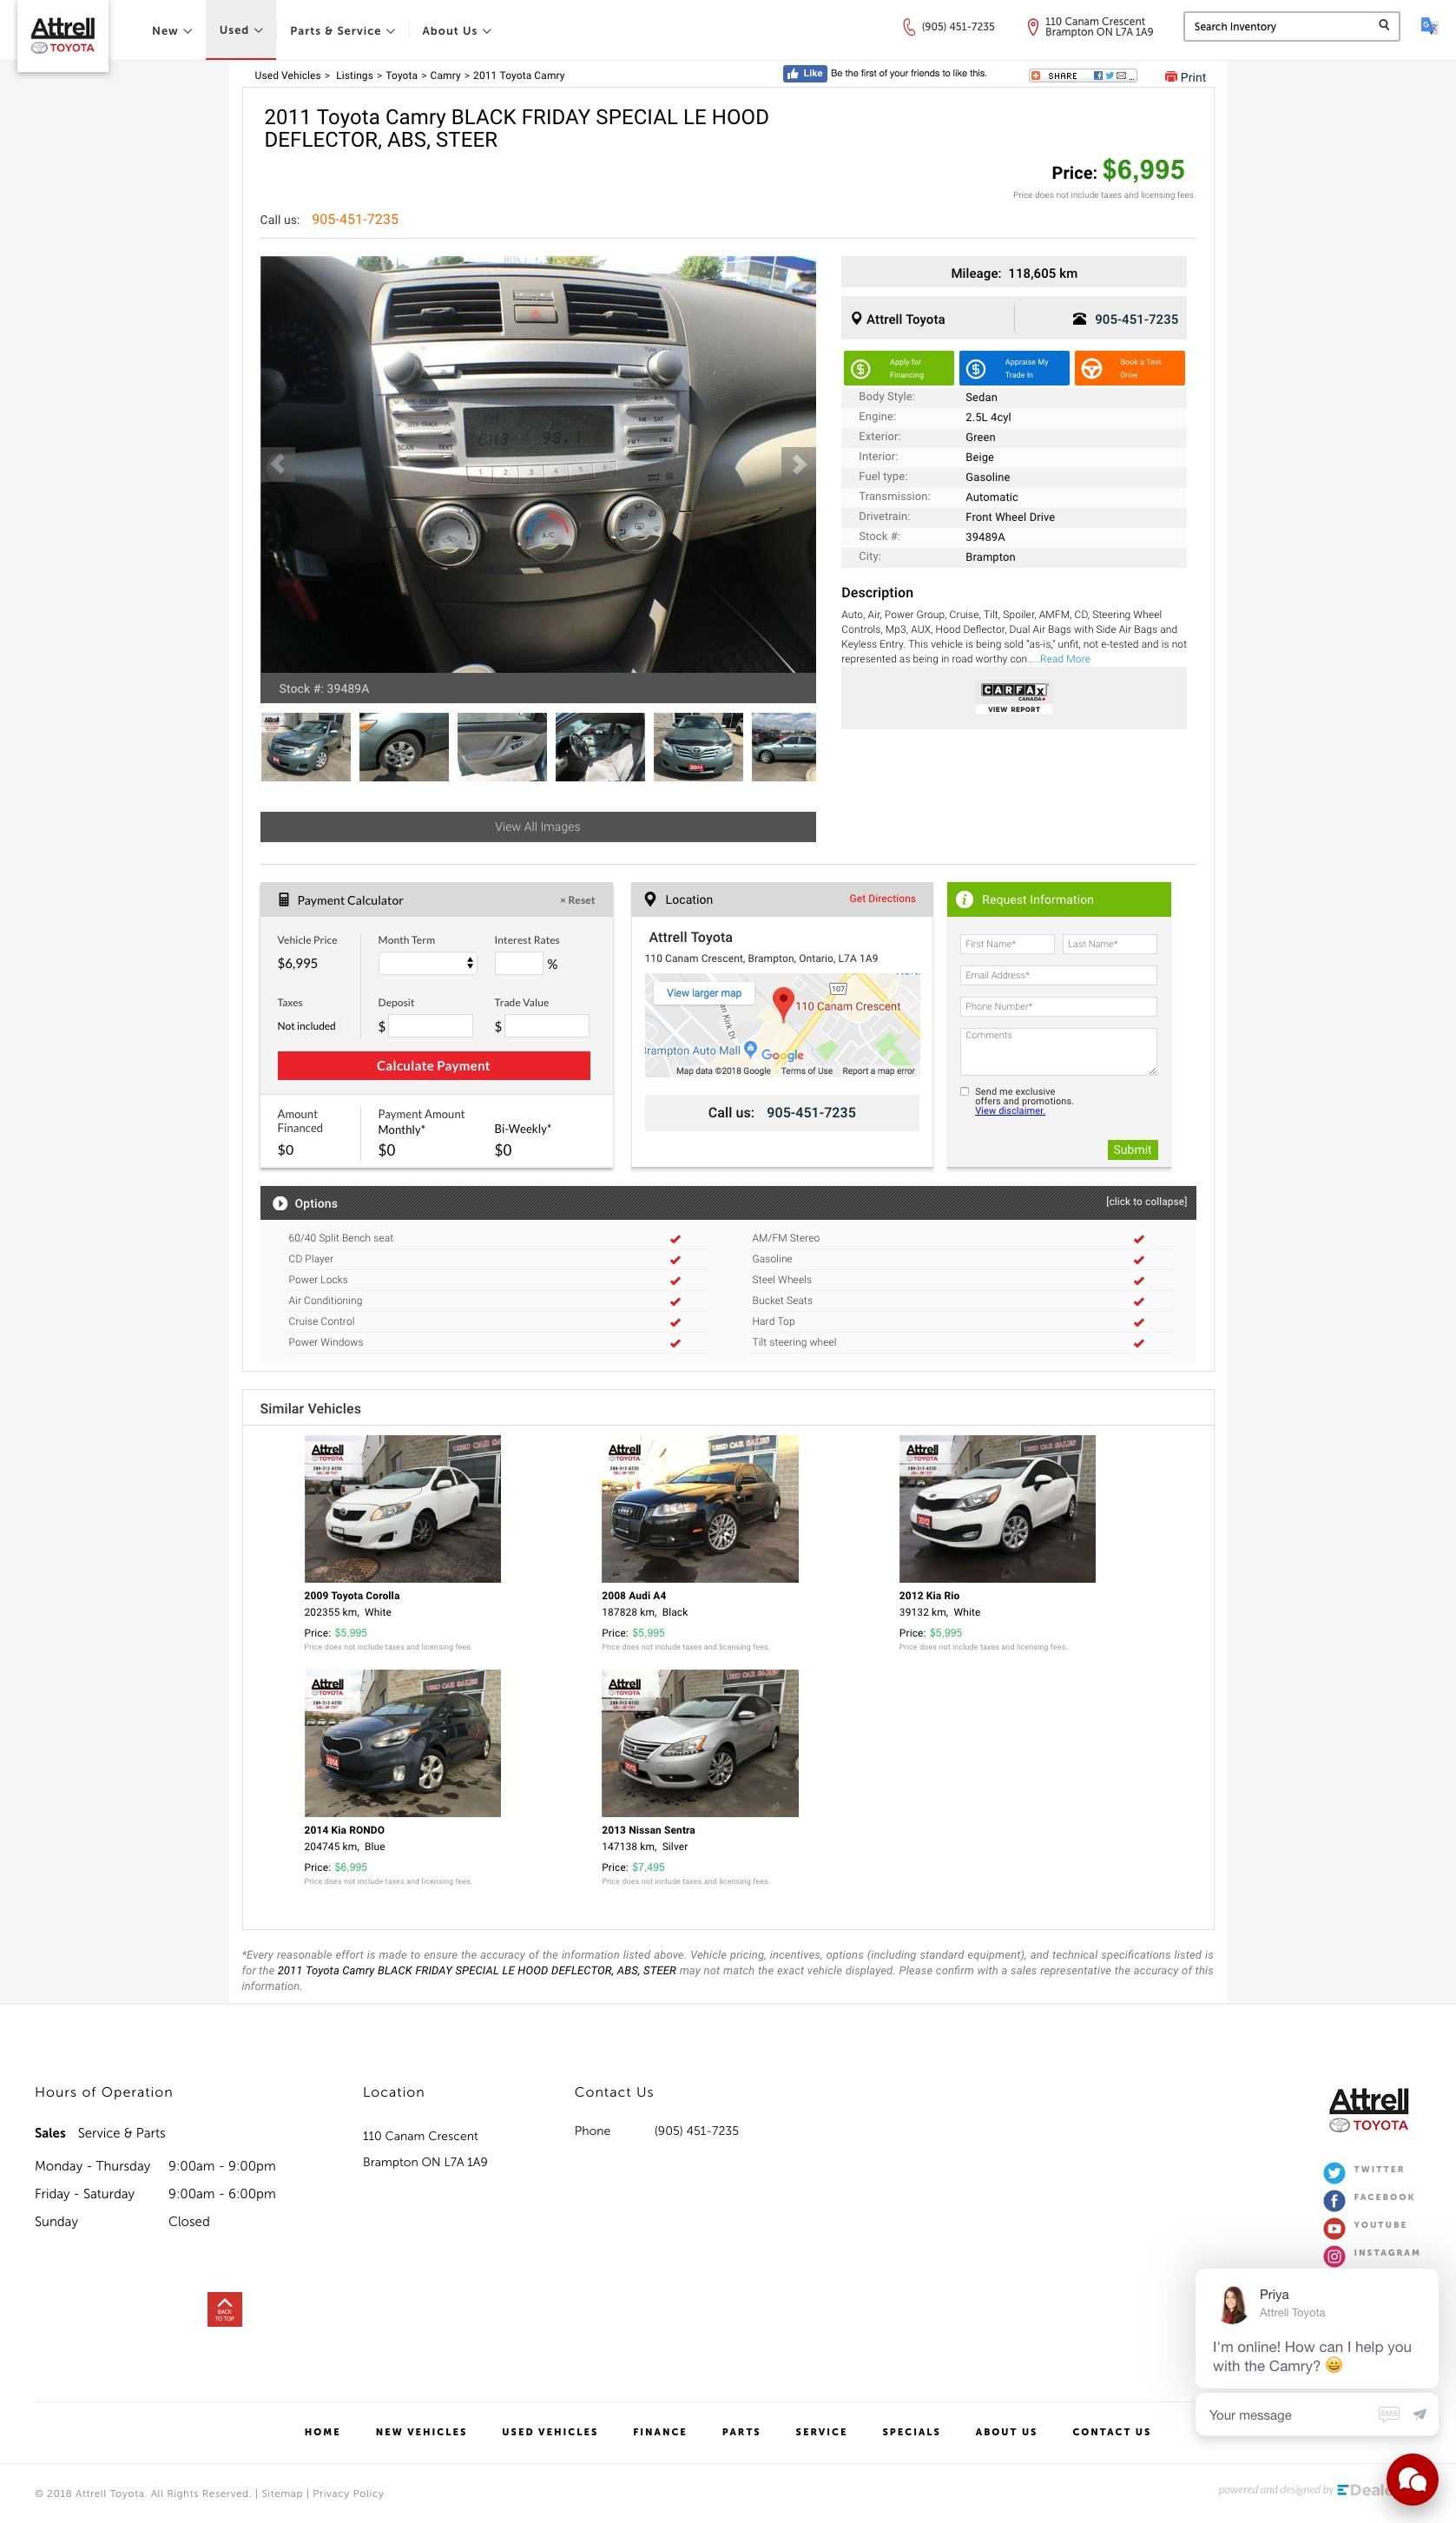car: (780, 445, 818, 485)
